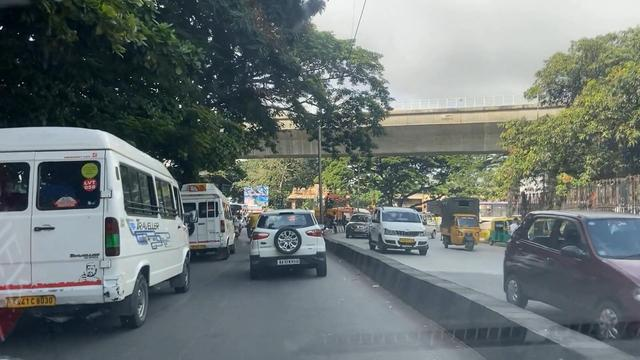HMV: (0, 129, 185, 325), (183, 184, 236, 256)
LMV: (257, 210, 330, 274)
